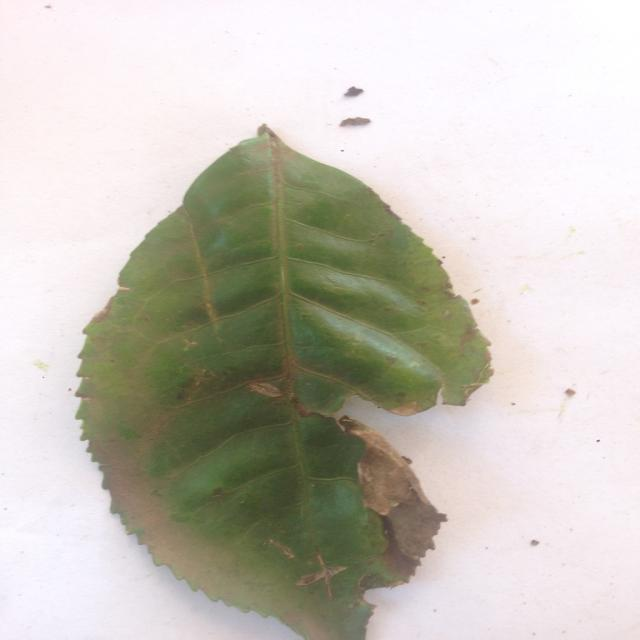Brown Blight: (62, 119, 503, 640)
